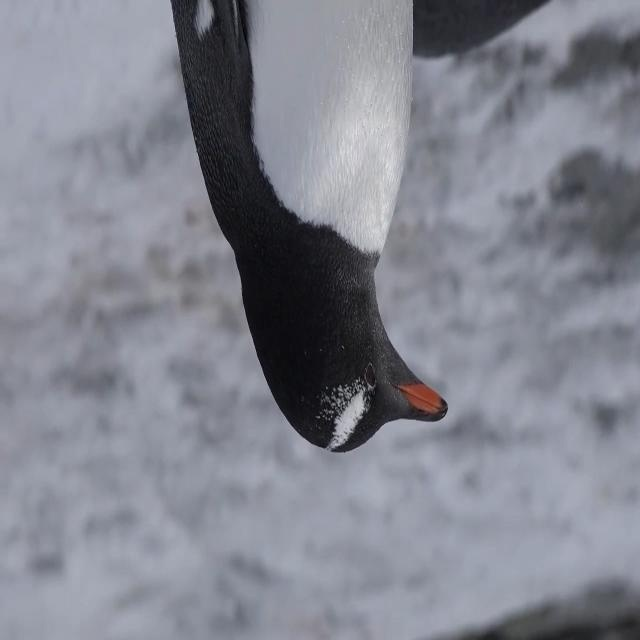penguin: (169, 1, 447, 453)
